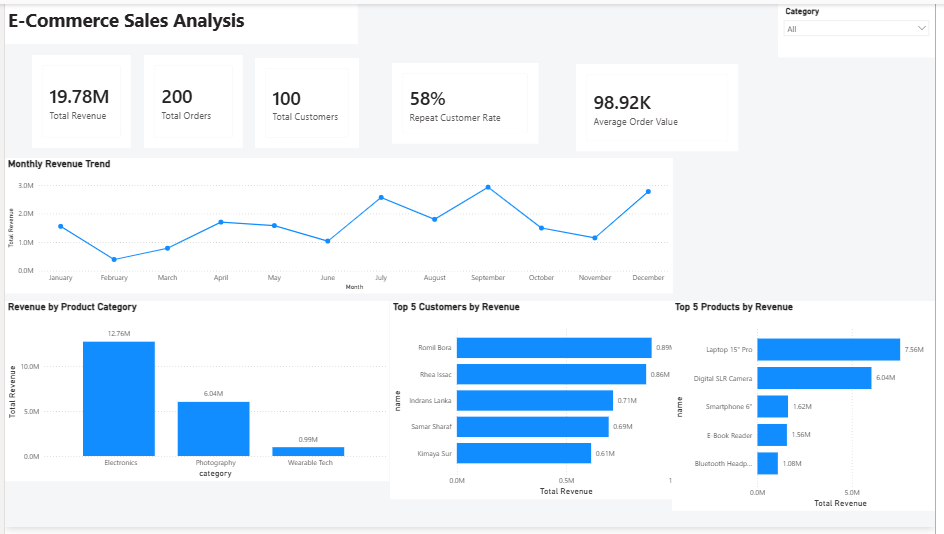

The page's visual inventory and layout, read from the dashboard file:
{"tool":"powerbi","page":{"name":"Page 1","canvas":[1600,900],"ordinal":0},"visuals":[{"type":"cardVisual","fields":{"Data":["Order_Details_Ecommerce.Total Revenue"]},"box":[46.2,88.2,170.1,159.6],"z":0},{"type":"cardVisual","fields":{"Data":["Orders_Ecommerce.Total Orders"]},"box":[239.1,87.7,170.3,160],"z":1000},{"type":"cardVisual","fields":{"Data":["Customers_Ecommerce.Total Customers"]},"box":[430.1,92.9,178.9,154.8],"z":2000},{"type":"cardVisual","fields":{"Data":["Customers_Ecommerce.Repeat Customer Rate"]},"box":[665.6,100.8,252,138.6],"z":3000},{"type":"lineChart","title":"Monthly Revenue Trend","fields":{"Y":["Order_Details_Ecommerce.Total Revenue"],"Category":["Orders_Ecommerce.order_date.Variation.Date Hierarchy.Month"]},"box":[0,264.6,1148.6,233.1],"z":4000},{"type":"clusteredColumnChart","title":"Revenue by Product Category","fields":{"Category":["product_ecommerce.category"],"Y":["Order_Details_Ecommerce.Total Revenue"]},"box":[0,511,660.6,309.7],"z":5000},{"type":"clusteredBarChart","title":"Top 5 Customers by Revenue","fields":{"Y":["Order_Details_Ecommerce.Total Revenue"],"Category":["Customers_Ecommerce.name"]},"box":[662.4,511,511,340.6],"z":6000},{"type":"clusteredBarChart","title":"Top 5 Products by Revenue","fields":{"Category":["product_ecommerce.name"],"Y":["Order_Details_Ecommerce.Total Revenue"]},"box":[1147.5,511,452.5,361.3],"z":7000},{"type":"cardVisual","fields":{"Data":["Orders_Ecommerce.Average Order Value"]},"box":[982.7,102.9,279,150],"z":8000},{"type":"slicer","title":"Slicer","fields":{"Values":["product_ecommerce.category"]},"box":[1330,0,270,92],"z":9000},{"type":"textbox","box":[0,0,607.3,68.8],"z":10000}]}

Visuals, with their boxes in screenshot pixels (x1, y1, x2, y2), scaled from the page's 1600x900 canvas onto the 944x534 screenshot:
cardVisual - Order_Details_Ecommerce.Total Revenue: locate(27, 52, 128, 147)
cardVisual - Orders_Ecommerce.Total Orders: locate(141, 52, 242, 147)
cardVisual - Customers_Ecommerce.Total Customers: locate(254, 55, 359, 147)
cardVisual - Customers_Ecommerce.Repeat Customer Rate: locate(393, 60, 541, 142)
"Monthly Revenue Trend" lineChart: locate(0, 157, 678, 295)
"Revenue by Product Category" clusteredColumnChart: locate(0, 303, 390, 487)
"Top 5 Customers by Revenue" clusteredBarChart: locate(391, 303, 692, 505)
"Top 5 Products by Revenue" clusteredBarChart: locate(677, 303, 943, 518)
cardVisual - Orders_Ecommerce.Average Order Value: locate(580, 61, 744, 150)
"Slicer" slicer: locate(785, 0, 943, 55)
textbox: locate(0, 0, 358, 41)
